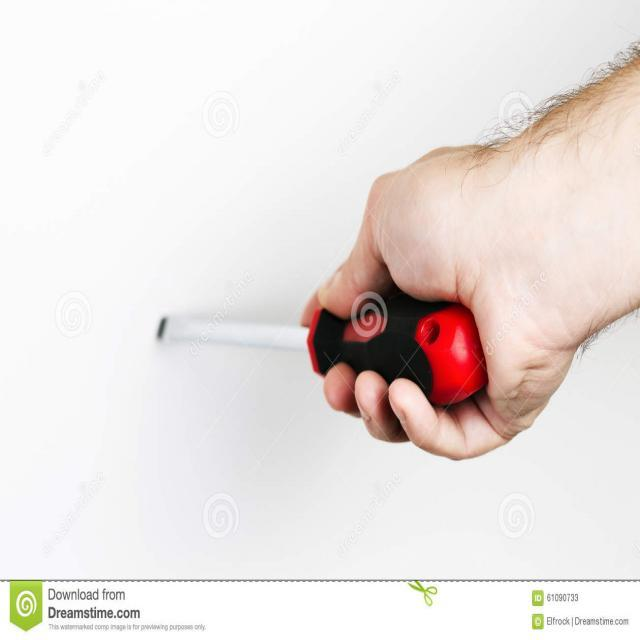screwdriver: (148, 294, 490, 408)
